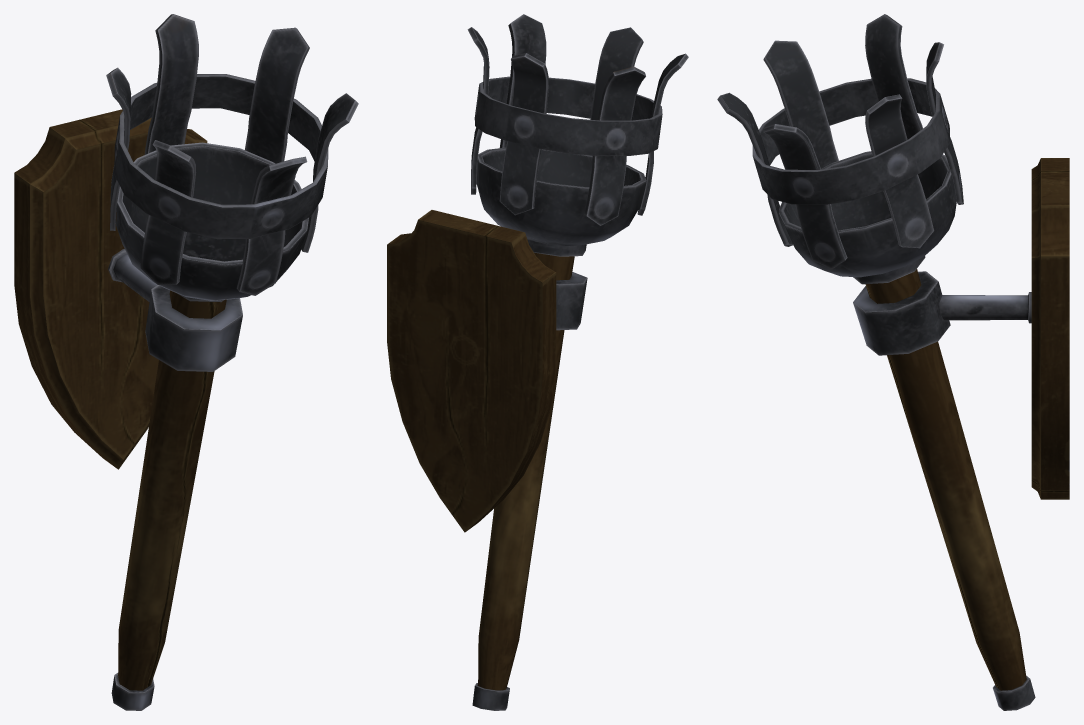
Rendered from факел.fbx.
3 renders of one model, left to right at view 1: azimuth 30°, elevation 25°; view 2: azimuth 150°, elevation 25°; view 3: azimuth 270°, elevation 25°, orthographic. The views are drawn at different scales.
Parts seen in each view (by area): view 1: Torch; view 2: Torch; view 3: Torch.
Part boxes in pixels (x1,y1,x2,y2): Torch: (14, 14, 358, 710); Torch: (387, 14, 688, 710); Torch: (717, 14, 1069, 710).
Size of the model in its own units: 0.1907 by 0.6652 by 0.3198.
1 material, 1 textured.
